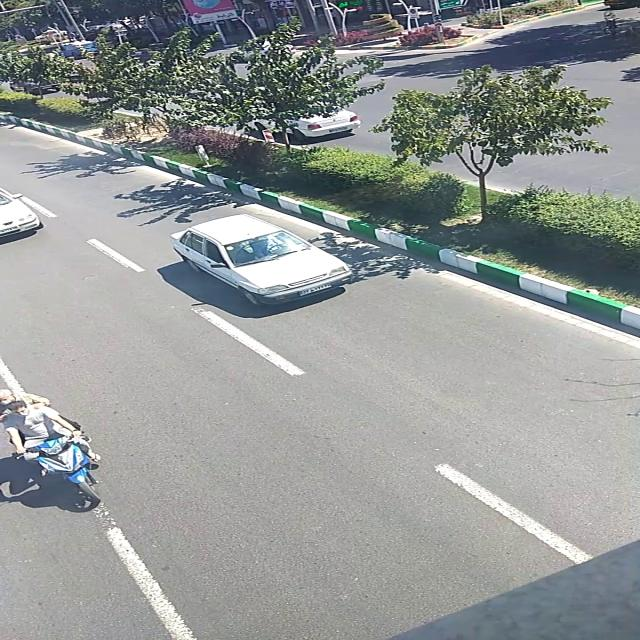car: (166, 214, 352, 304), (295, 107, 364, 141), (1, 186, 43, 238)
motor: (2, 387, 96, 505)
